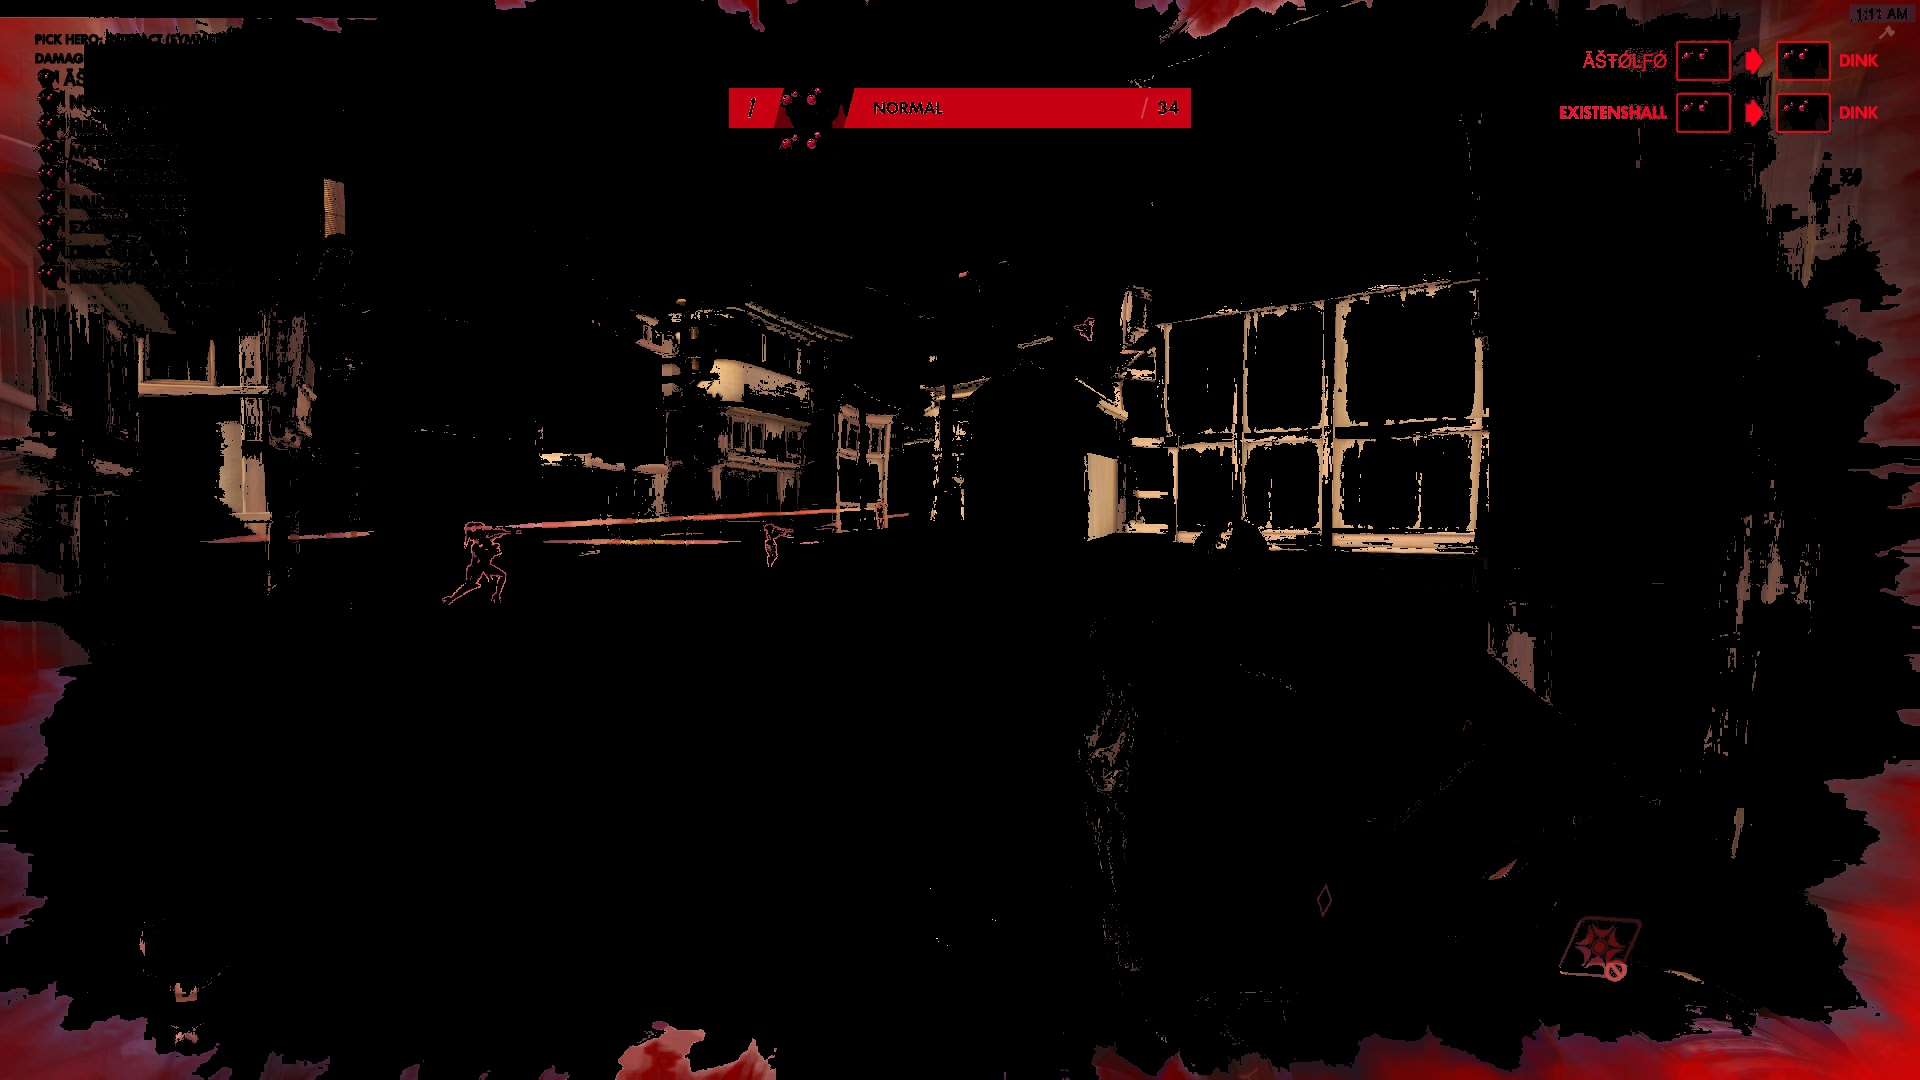widowmaker: (454, 524, 522, 621), (760, 522, 785, 574), (1075, 316, 1098, 344), (872, 501, 890, 534)
